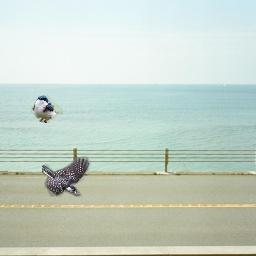Swallow: (31, 95, 63, 123)
Woodpecker: (42, 156, 91, 197)
